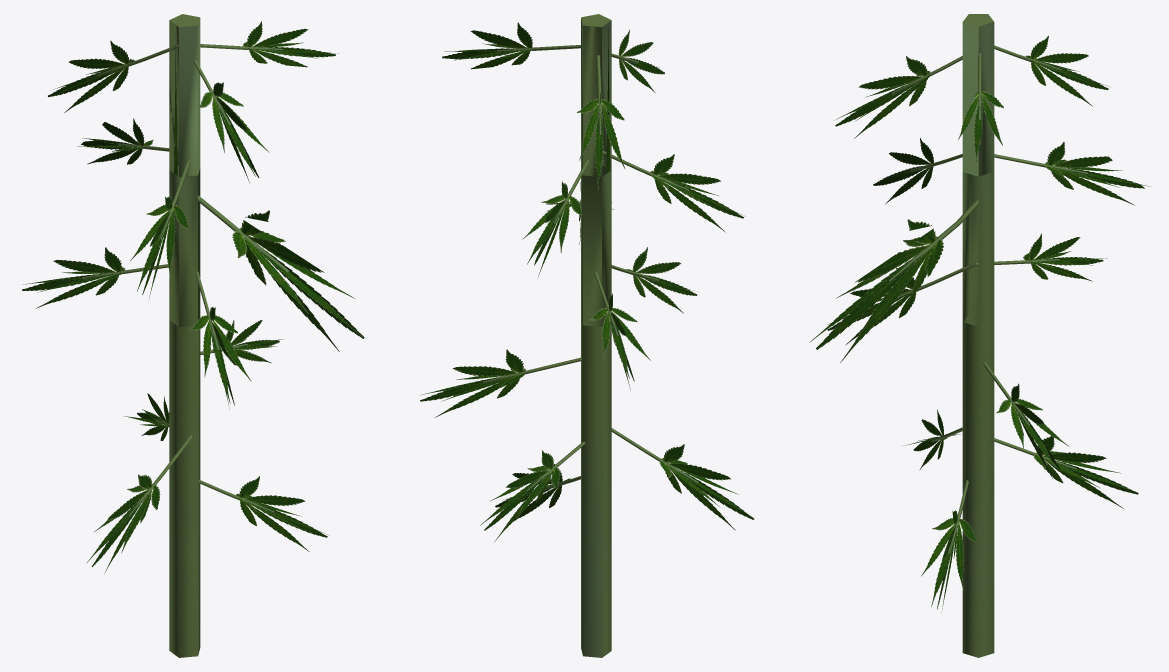
Rendered from WeedFarmModelobjec 1.FBX.
The picture shows the model from 3 angles, left to right: view 1: azimuth 30°, elevation 25°; view 2: azimuth 150°, elevation 25°; view 3: azimuth 270°, elevation 25°; orthographic projection.
Parts seen in each view (by area): view 1: Plane003; view 2: Plane003; view 3: Plane003.
Part boxes in pixels (x1,y1,x2,y2): Plane003: (22,14,364,657); Plane003: (420,14,754,657); Plane003: (809,14,1151,657).
Bounding box in the file's own units: 45.41 × 92.8 × 48.06.
Materials: 1 (1 with a texture image).
